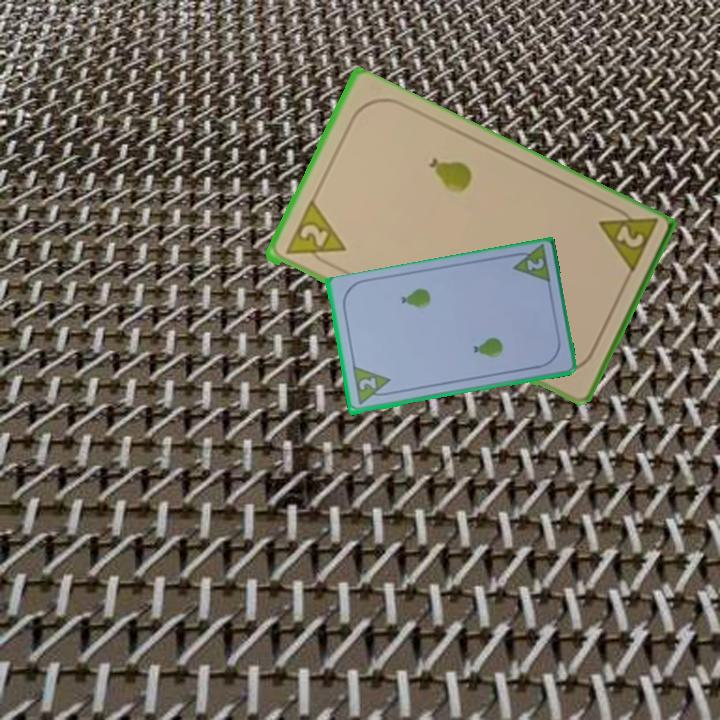2p: (280, 199, 348, 270), (506, 243, 553, 287), (349, 364, 395, 408), (612, 221, 647, 251)
